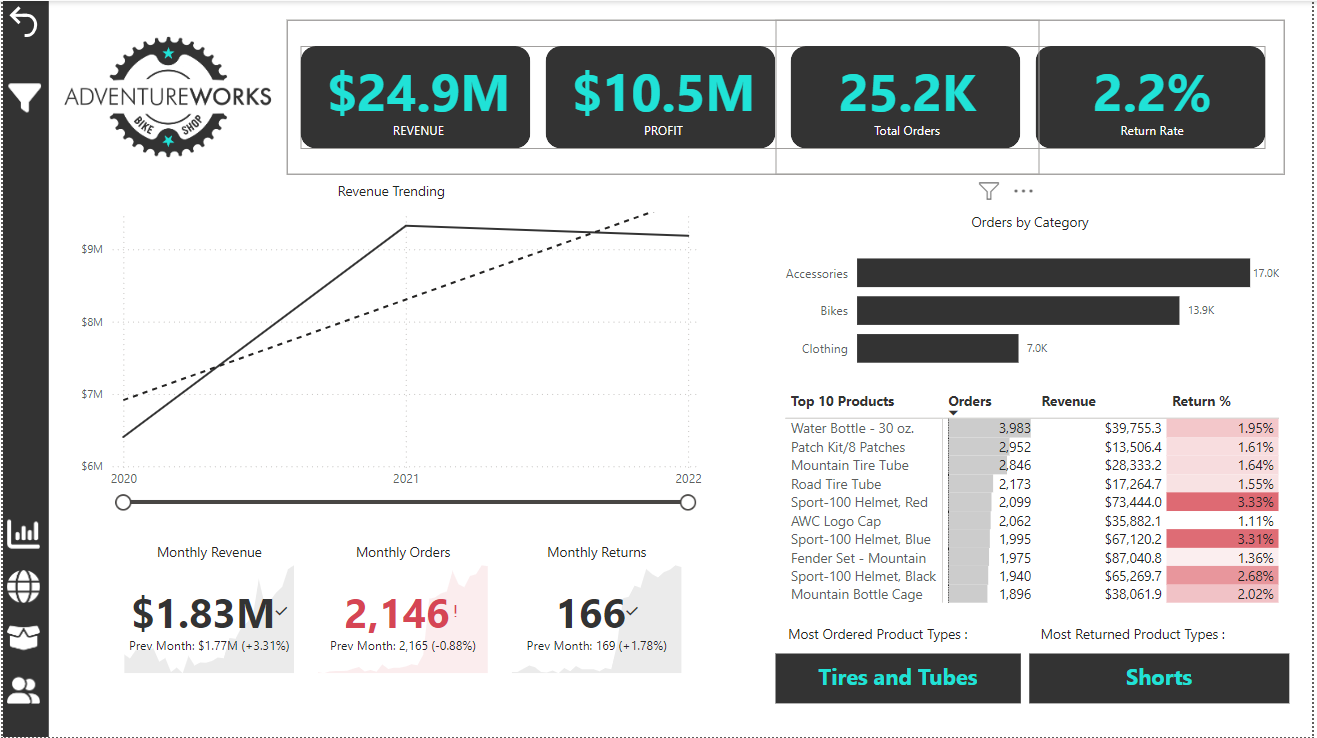

This screenshot's page, from the dashboard's own definition file:
{"tool":"powerbi","page":{"name":"Exec Dashboard","canvas":[1280,720],"ordinal":0},"visuals":[{"type":"image","title":"AW Logo","box":[33,18.3,258,151.6],"z":0},{"type":"card","fields":{"Values":["Measure Table.Total Revenue"]},"box":[277.6,18.3,258,151.6],"z":0,"group":"g2"},{"type":"group","id":"g1","title":"KPI Backgrounds","box":[291.1,44,944,100.3],"z":0,"group":"g3"},{"type":"shape","box":[770.5,44,225,100.3],"z":0,"group":"g1"},{"type":"actionButton","box":[0.2,500.9,45.2,40.4],"z":0,"group":"g4"},{"type":"shape","title":"Left Nav Background","box":[0,0,45,720.2],"z":1000},{"type":"group","id":"g2","title":"KPI Values","box":[277.6,18.3,975.8,151.6],"z":1000,"group":"g3"},{"type":"card","fields":{"Values":["Measure Table.Total Profit"]},"box":[516.9,18.3,258,151.6],"z":1000,"group":"g2"},{"type":"shape","box":[291.1,44,225,100.3],"z":1000,"group":"g1"},{"type":"actionButton","box":[0.2,551.9,45.2,40.4],"z":1000,"group":"g4"},{"type":"group","id":"g3","title":"KPIs","box":[277.6,18.3,975.8,151.6],"z":2000},{"type":"card","fields":{"Values":["Measure Table.Total Orders"]},"box":[756.1,18.3,258,151.6],"z":2000,"group":"g2"},{"type":"shape","box":[1010.1,44,225,100.3],"z":2000,"group":"g1"},{"type":"actionButton","box":[0.2,602.8,45.2,40.4],"z":2000,"group":"g4"},{"type":"card","fields":{"Values":["Measure Table.Return Rate"]},"box":[995.4,18.3,258,151.6],"z":3000,"group":"g2"},{"type":"shape","box":[530.8,44,225,100.3],"z":3000,"group":"g1"},{"type":"lineChart","title":"Revenue Trending","fields":{"Y":["Measure Table.Total Revenue"],"Category":["Calendar Lookup.Year","Calendar Lookup.Start of Quarter","Calendar Lookup.Date Hierarchy.Start of Year","Calendar Lookup.Date Hierarchy.Start of Month"]},"box":[70.9,176.1,617.5,325.3],"z":3000},{"type":"actionButton","box":[0.2,653.8,45.2,40.4],"z":3000,"group":"g4"},{"type":"kpi","title":"Monthly Revenue","fields":{"Indicator":["Measure Table.Total Revenue"],"TrendLine":["Calendar Lookup.Start of Month"],"Goal":["Measure Table.Previous Month Revenue"]},"box":[113.2,529.5,176.1,133.3],"z":4000},{"type":"kpi","title":"Monthly Orders","fields":{"TrendLine":["Calendar Lookup.Start of Month"],"Indicator":["Measure Table.Total Orders"],"Goal":["Measure Table.Previous Month Orders"]},"box":[303.3,529.5,176.1,133.3],"z":5000},{"type":"kpi","title":"Monthly Returns","fields":{"TrendLine":["Calendar Lookup.Start of Month"],"Goal":["Measure Table.Previous Month Returns"],"Indicator":["Measure Table.Total Returns"]},"box":[493.3,529.5,176.1,133.3],"z":6000},{"type":"clusteredBarChart","title":"Orders by Category","fields":{"Category":["Product Categories Lookup.CategoryName"],"Y":["Measure Table.Total Orders"]},"box":[755.7,206.7,497.7,168.8],"z":7000},{"type":"pivotTable","fields":{"Rows":["Product Lookup.ProductName"],"Values":["Measure Table.Total Orders","Measure Table.Total Revenue","Measure Table.Return Rate"]},"box":[760.9,376.9,497.8,219],"z":8000},{"type":"card","fields":{"Values":["Min(Product Subcategories Lookup.SubcategoryName)"]},"box":[755.7,638.6,240,48.6],"z":9000},{"type":"textbox","box":[763,605.3,207.9,33],"z":10000},{"type":"card","fields":{"Values":["Min(Product Subcategories Lookup.SubcategoryName)"]},"box":[1004.3,638.6,254.3,48.6],"z":11000},{"type":"textbox","box":[1010.1,605.3,192,33],"z":12000},{"type":"actionButton","box":[0,0,45.2,40.4],"z":13000},{"type":"group","id":"g4","title":"Navigation Buttons","box":[0.2,500.9,45.2,193.2],"z":14000},{"type":"actionButton","box":[1.2,74.6,45.2,40.4],"z":15000}]}

Visuals, with their boxes on the page's 1280x720 design canvas (x1, y1, x2, y2). These are canvas units, not pixel positions in the 1317x738 screenshot, which may show the page scaled, cropped or inside an application window:
"AW Logo" image: bbox=[33, 18, 291, 170]
card - Measure Table.Total Revenue: bbox=[278, 18, 536, 170]
"KPI Backgrounds" group: bbox=[291, 44, 1235, 144]
shape: bbox=[770, 44, 996, 144]
actionButton: bbox=[0, 501, 45, 541]
"Left Nav Background" shape: bbox=[0, 0, 45, 720]
"KPI Values" group: bbox=[278, 18, 1253, 170]
card - Measure Table.Total Profit: bbox=[517, 18, 775, 170]
shape: bbox=[291, 44, 516, 144]
actionButton: bbox=[0, 552, 45, 592]
"KPIs" group: bbox=[278, 18, 1253, 170]
card - Measure Table.Total Orders: bbox=[756, 18, 1014, 170]
shape: bbox=[1010, 44, 1235, 144]
actionButton: bbox=[0, 603, 45, 643]
card - Measure Table.Return Rate: bbox=[995, 18, 1253, 170]
shape: bbox=[531, 44, 756, 144]
"Revenue Trending" lineChart: bbox=[71, 176, 688, 501]
actionButton: bbox=[0, 654, 45, 694]
"Monthly Revenue" kpi: bbox=[113, 530, 289, 663]
"Monthly Orders" kpi: bbox=[303, 530, 479, 663]
"Monthly Returns" kpi: bbox=[493, 530, 669, 663]
"Orders by Category" clusteredBarChart: bbox=[756, 207, 1253, 376]
pivotTable - Product Lookup.ProductName x Measure Table.Total Orders: bbox=[761, 377, 1259, 596]
card - Min(Product Subcategories Lookup.SubcategoryName): bbox=[756, 639, 996, 687]
textbox: bbox=[763, 605, 971, 638]
card - Min(Product Subcategories Lookup.SubcategoryName): bbox=[1004, 639, 1259, 687]
textbox: bbox=[1010, 605, 1202, 638]
actionButton: bbox=[0, 0, 45, 40]
"Navigation Buttons" group: bbox=[0, 501, 45, 694]
actionButton: bbox=[1, 75, 46, 115]
